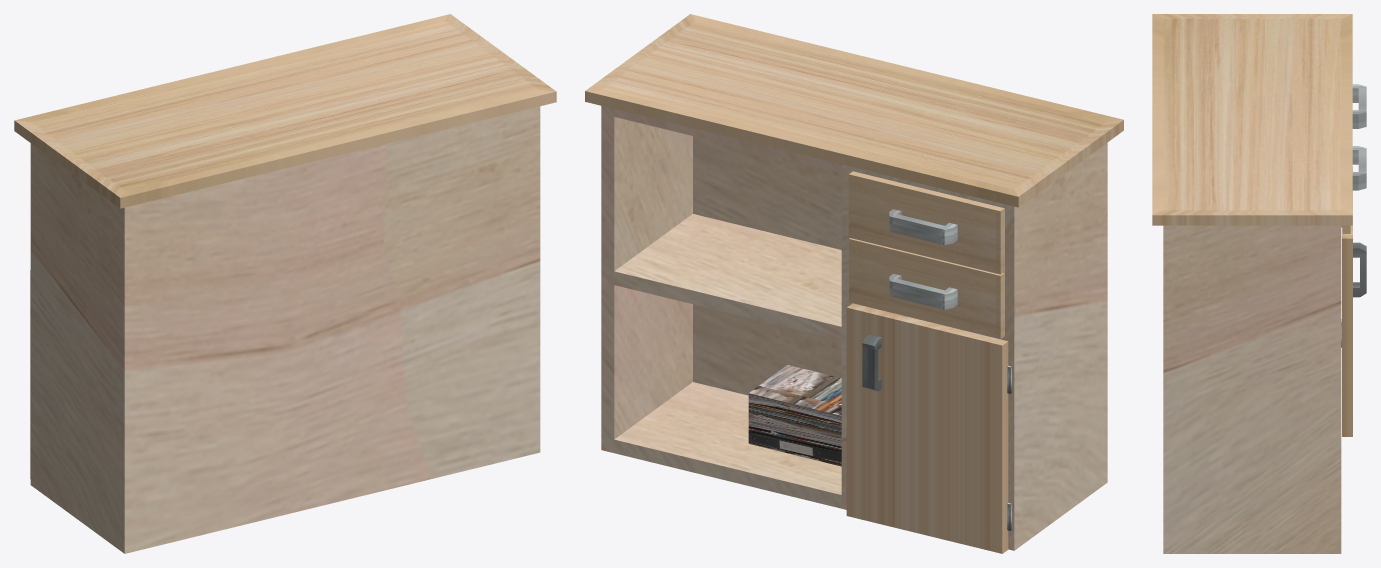
File: cd locker 1.FBX
3 views of the same model, side by side, from view 1: azimuth 30°, elevation 25°; view 2: azimuth 150°, elevation 25°; view 3: azimuth 270°, elevation 25° (orthographic). The views are drawn at different scales.
Parts seen in each view (by area): view 1: Box001, Object004; view 2: Box001, Object004, Object002, Object001, Object006, Box004, Object005, Object007, Object003; view 3: Box001, Object004, Object002, Object005, Object007, Object003.
Boxes of the visible parts, <box> form: Box001: <box>30,106,540,553</box>; Object004: <box>14,14,556,208</box>; Box001: <box>601,106,1107,550</box>; Object004: <box>585,14,1123,207</box>; Object002: <box>846,303,1008,553</box>; Object001: <box>848,171,1004,274</box>; Object006: <box>849,238,1004,339</box>; Box004: <box>748,365,841,466</box>; Object005: <box>889,209,957,245</box>; Object007: <box>889,273,957,309</box>; Object003: <box>862,334,881,391</box>; Box001: <box>1163,225,1341,553</box>; Object004: <box>1152,14,1352,225</box>; Object002: <box>1342,166,1352,436</box>; Object005: <box>1352,84,1366,128</box>; Object007: <box>1352,146,1366,190</box>; Object003: <box>1353,242,1366,297</box>.
Bounding box in the file's own units: 111 × 88.33 × 50.03.
4 materials, 4 textured.
